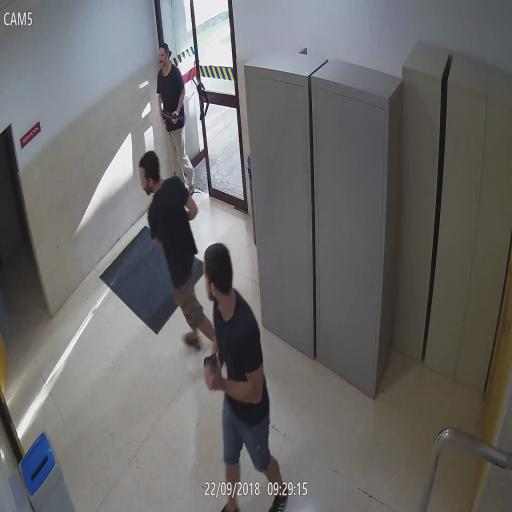Handgun: (202, 350, 221, 388)
